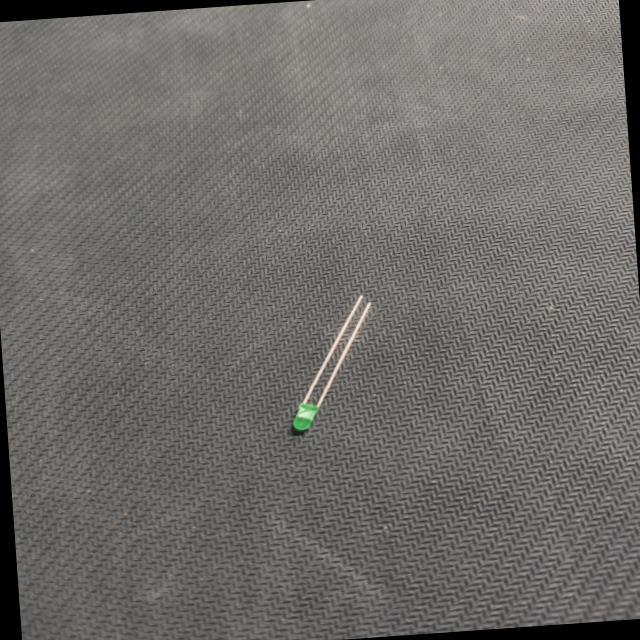led: (268, 284, 388, 442)
